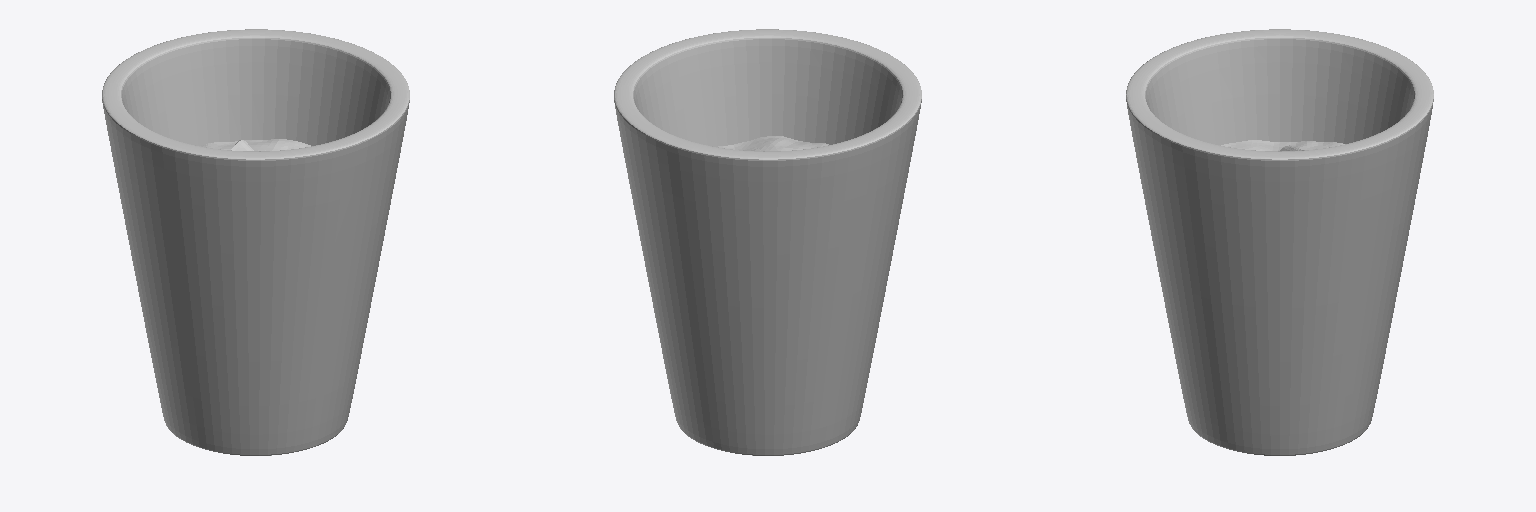
File: glasswater.obj
3 views of the same model, side by side, from view 1: azimuth 30°, elevation 25°; view 2: azimuth 150°, elevation 25°; view 3: azimuth 270°, elevation 25° (orthographic).
Visible parts, largest first — view 1: Vert, Circle; view 2: Vert, Circle; view 3: Vert, Circle.
Boxes of the visible parts, x1=… form: Vert: x1=102, y1=29, x2=409, y2=455; Circle: x1=201, y1=139, x2=310, y2=150; Vert: x1=614, y1=29, x2=921, y2=455; Circle: x1=718, y1=136, x2=828, y2=150; Vert: x1=1126, y1=29, x2=1433, y2=455; Circle: x1=1221, y1=140, x2=1344, y2=150.
Bounding box in the file's own units: 3.25 × 3.78 × 3.25.